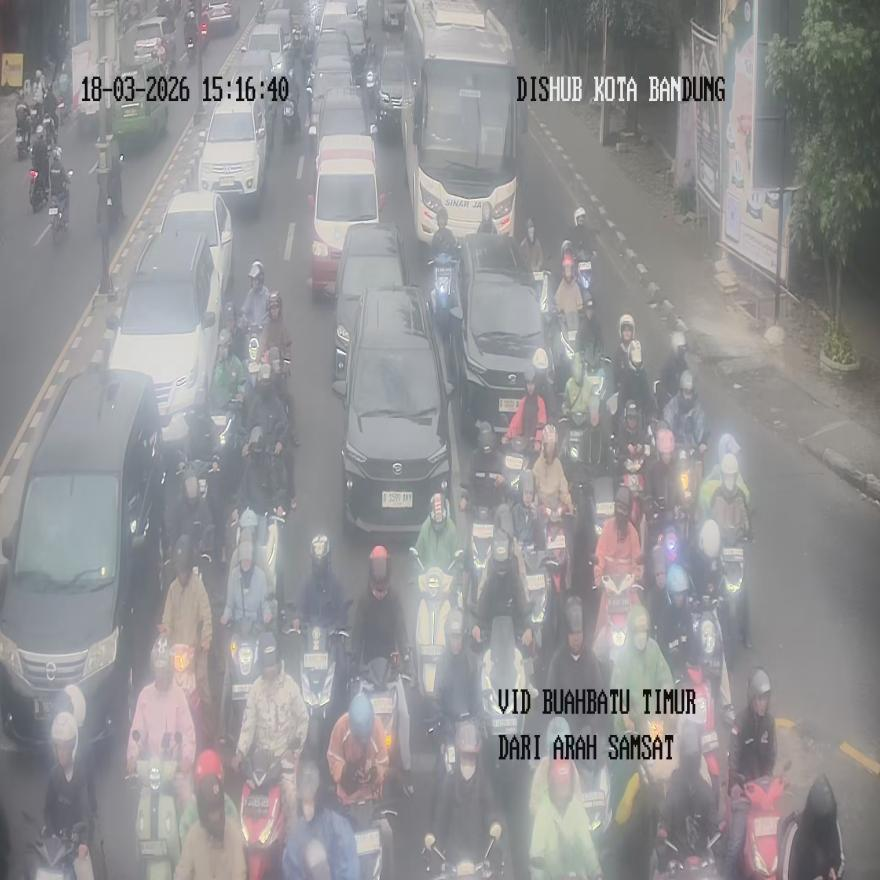Motor: (0, 363, 167, 751), (333, 283, 455, 533), (104, 227, 218, 444)
